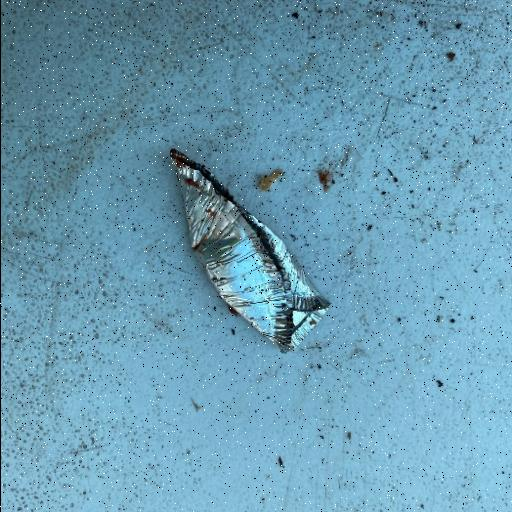Metal: (167, 146, 332, 354)
